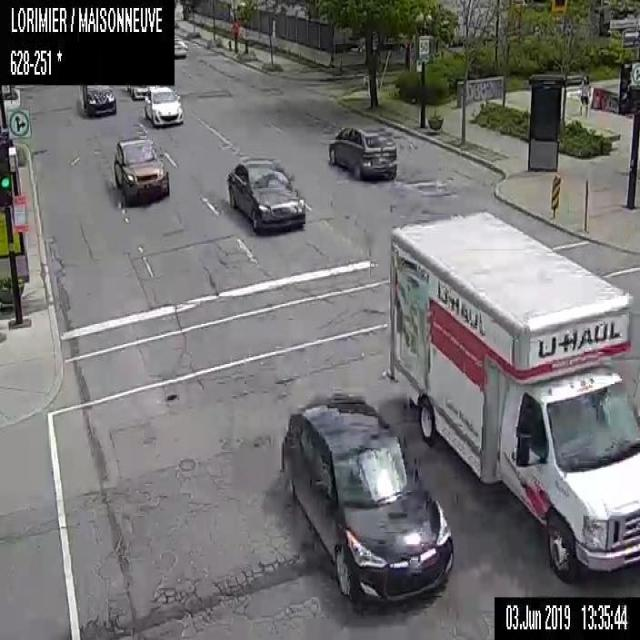pedestrian: (578, 73, 591, 118)
vehicle: (389, 207, 639, 585), (277, 391, 452, 609), (228, 155, 306, 233), (326, 123, 398, 180), (112, 134, 168, 205), (144, 84, 184, 127), (81, 83, 116, 116), (128, 84, 144, 99), (174, 38, 187, 56)
